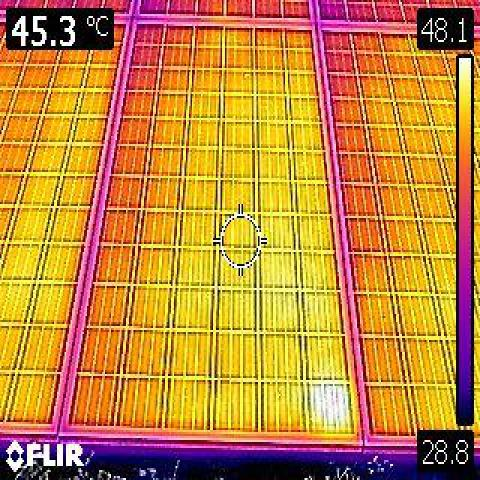fault: (310, 381, 354, 437)
